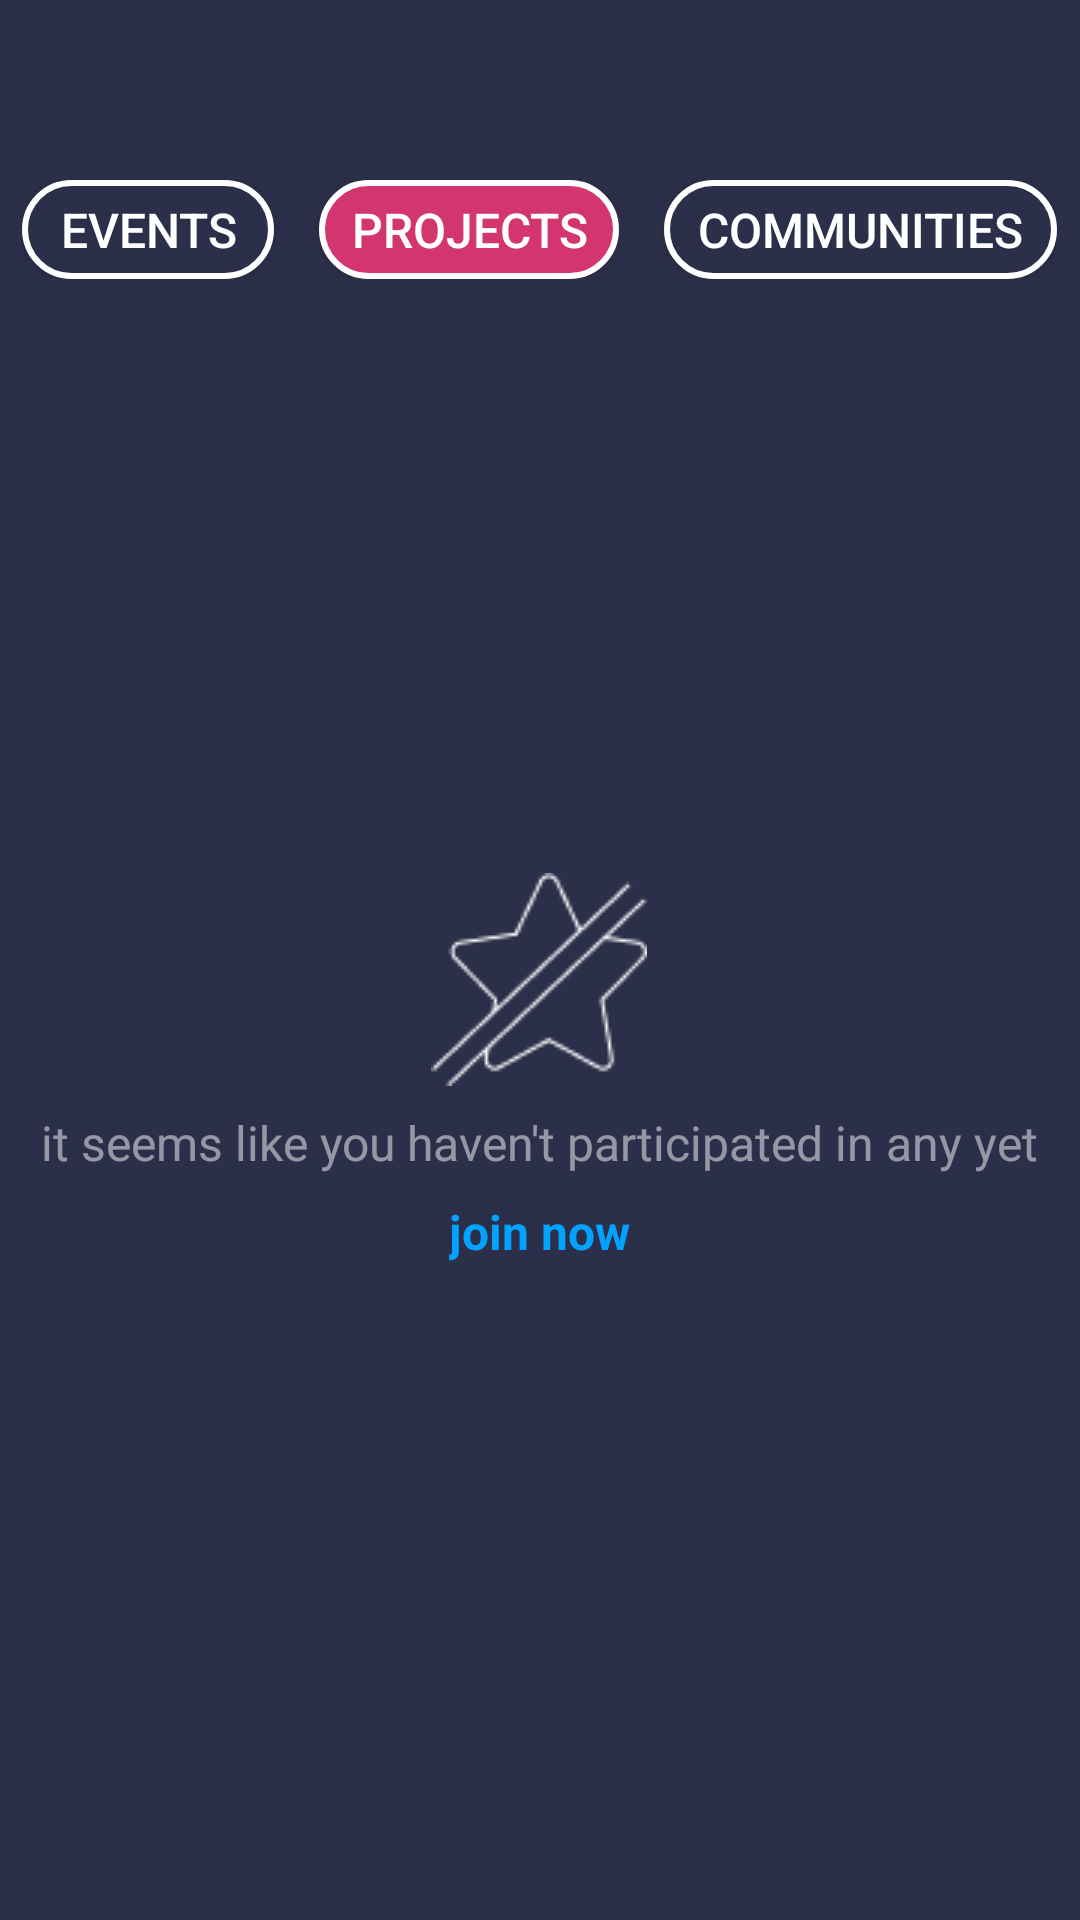

Icons on this 1080w x 1920h Android screen, each with its box as box(x1, y1, x2, y2):
no data star: box(431, 873, 647, 1086)
